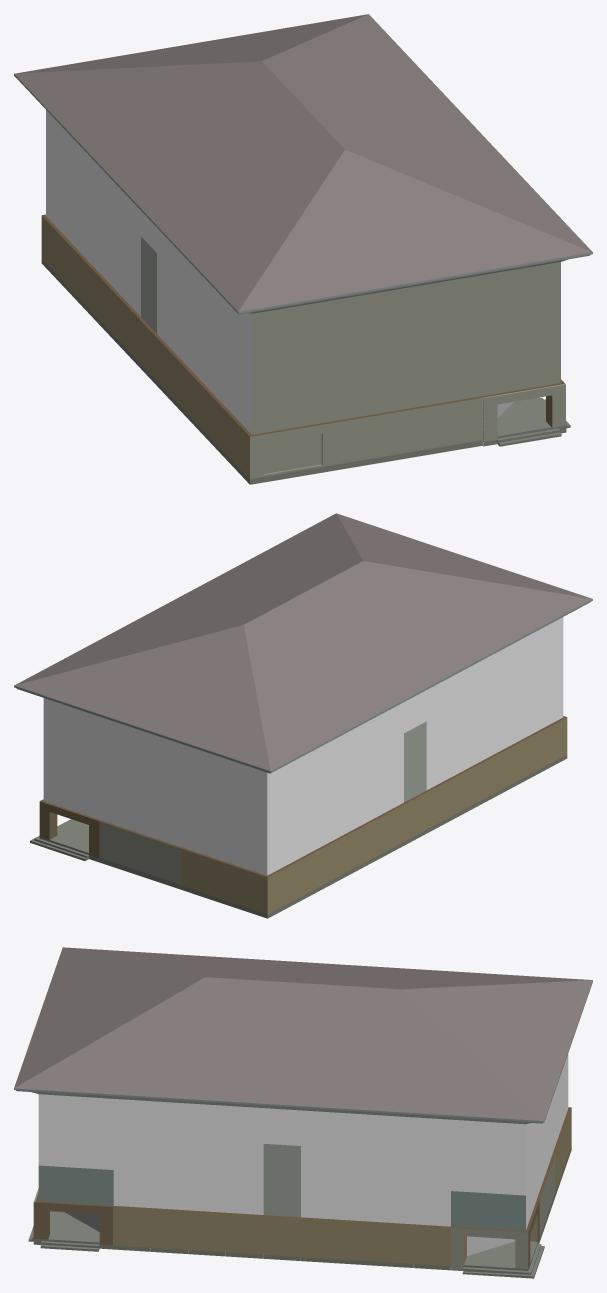
Rendered from Building-02.obj.
3 renders of one model, top to bottom at view 1: azimuth 30°, elevation 25°; view 2: azimuth 150°, elevation 25°; view 3: azimuth 270°, elevation 25°, orthographic. The views are drawn at different scales.
Parts seen in each view (by area): view 1: Mesh15 Group15 Model, Mesh13 Group13 Model, Mesh18 Group19 Model, Mesh16 Group17 Model, Mesh75 Model, Mesh22 Group_1_4 Model, Mesh21 Group_1_3 Model, Mesh25 Group_1_7 Model, Mesh26 Group_1_8 Model, Mesh23 Group_1_5 Model, Mesh24 Group_1_6 Model, Mesh30 Group_1_12 Model (+26 smaller); view 2: Mesh15 Group15 Model, Mesh14 Group14 Model, Mesh17 Group18 Model, Mesh12 Group12 Model, Mesh19 Group_1_1 Model, Mesh20 Group_1_2 Model, Mesh24 Group_1_6 Model, Mesh25 Group_1_7 Model, Mesh26 Group_1_8 Model, Mesh23 Group_1_5 Model, Mesh28 Group_1_10 Model, Mesh29 Group_1_11 Model (+30 smaller); view 3: Mesh15 Group15 Model, Mesh12 Group12 Model, Mesh16 Group17 Model, Mesh14 Group14 Model, Mesh37 Group_2_7 Model, Mesh40 Group_1_14 Model, Mesh45 Group_2_10 Model, Mesh46 Group_1_18 Model, Mesh41 Group_1_15 Model, Mesh7 Group7 Model, Mesh47 Group_1_19 Model, Mesh48 Group_2_11 Model (+24 smaller).
Part boxes in pixels (x1,y1,x2,y2): Mesh15 Group15 Model: [14, 14, 592, 314]; Mesh13 Group13 Model: [252, 262, 560, 434]; Mesh18 Group19 Model: [250, 398, 482, 484]; Mesh16 Group17 Model: [482, 384, 570, 446]; Mesh75 Model: [42, 214, 564, 441]; Mesh22 Group_1_4 Model: [188, 287, 220, 360]; Mesh21 Group_1_3 Model: [188, 328, 220, 400]; Mesh25 Group_1_7 Model: [77, 169, 109, 242]; Mesh26 Group_1_8 Model: [77, 210, 109, 282]; Mesh23 Group_1_5 Model: [157, 294, 188, 367]; Mesh24 Group_1_6 Model: [157, 253, 188, 326]; Mesh30 Group_1_12 Model: [109, 243, 140, 316]; Mesh15 Group15 Model: [14, 513, 592, 773]; Mesh14 Group14 Model: [43, 698, 267, 875]; Mesh17 Group18 Model: [99, 821, 181, 889]; Mesh12 Group12 Model: [30, 801, 99, 862]; Mesh19 Group_1_1 Model: [517, 683, 563, 741]; Mesh20 Group_1_2 Model: [517, 648, 563, 706]; Mesh24 Group_1_6 Model: [426, 697, 472, 755]; Mesh25 Group_1_7 Model: [312, 758, 358, 816]; Mesh26 Group_1_8 Model: [312, 793, 358, 850]; Mesh23 Group_1_5 Model: [426, 732, 472, 789]; Mesh28 Group_1_10 Model: [358, 733, 403, 792]; Mesh29 Group_1_11 Model: [267, 817, 312, 875]; Mesh15 Group15 Model: [14, 947, 592, 1124]; Mesh12 Group12 Model: [450, 1201, 544, 1278]; Mesh16 Group17 Model: [28, 1188, 112, 1251]; Mesh14 Group14 Model: [526, 1054, 568, 1229]; Mesh37 Group_2_7 Model: [188, 1103, 263, 1143]; Mesh40 Group_1_14 Model: [113, 1134, 188, 1174]; Mesh45 Group_2_10 Model: [38, 1094, 113, 1134]; Mesh46 Group_1_18 Model: [113, 1170, 188, 1210]; Mesh41 Group_1_15 Model: [188, 1139, 263, 1179]; Mesh7 Group7 Model: [38, 1165, 113, 1205]; Mesh47 Group_1_19 Model: [38, 1130, 113, 1169]; Mesh48 Group_2_11 Model: [113, 1099, 188, 1138].
Size of the model in its own units: 110 by 63.02 by 155.
